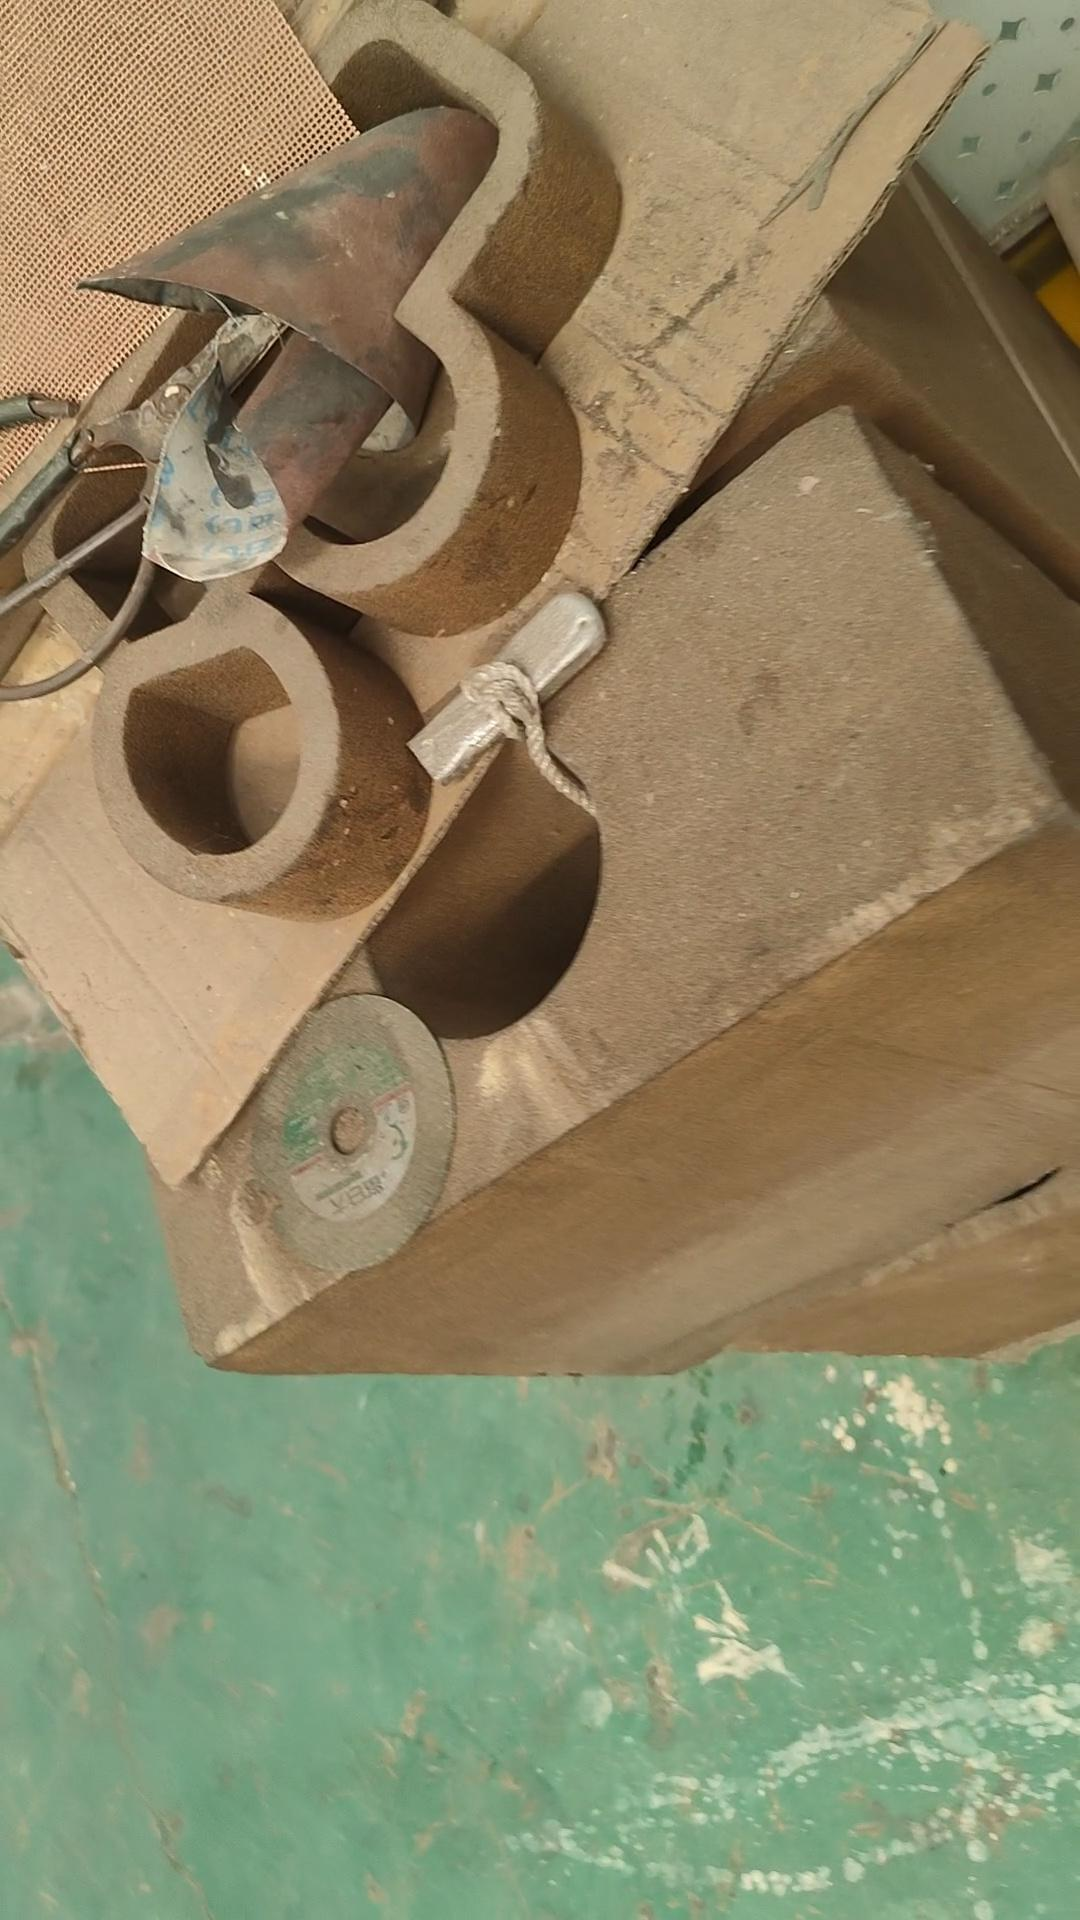pouring hole: (357, 720, 603, 1040)
